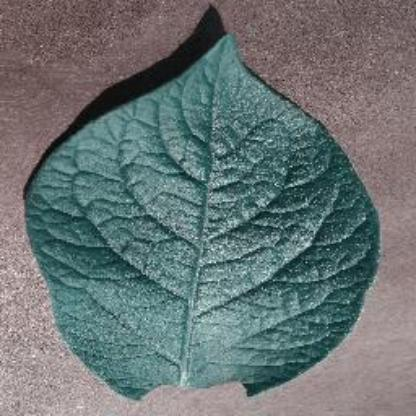Healthy-plant: (13, 18, 385, 406)
